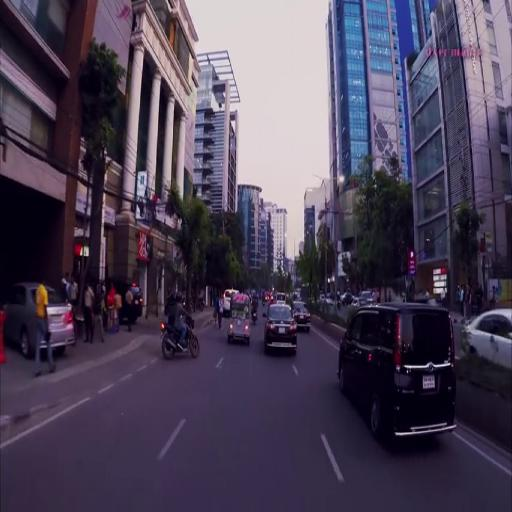car: (4, 280, 75, 353), (462, 307, 512, 370), (264, 302, 299, 350), (291, 299, 312, 329)
minivan: (338, 302, 457, 438)
motorbike: (161, 314, 201, 360), (252, 304, 259, 323)
suv: (100, 275, 143, 320)
three wheelers (CNG): (229, 294, 252, 342)
